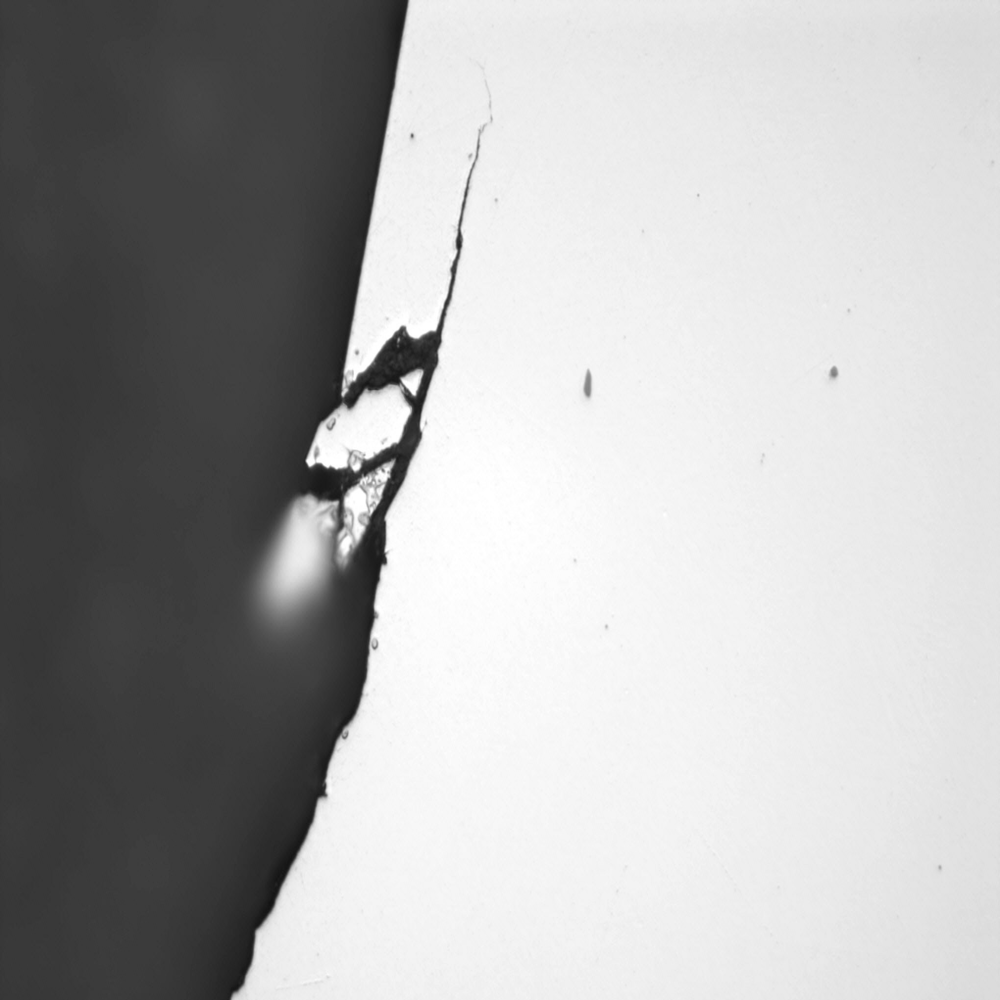crack: (288, 32, 506, 636)
